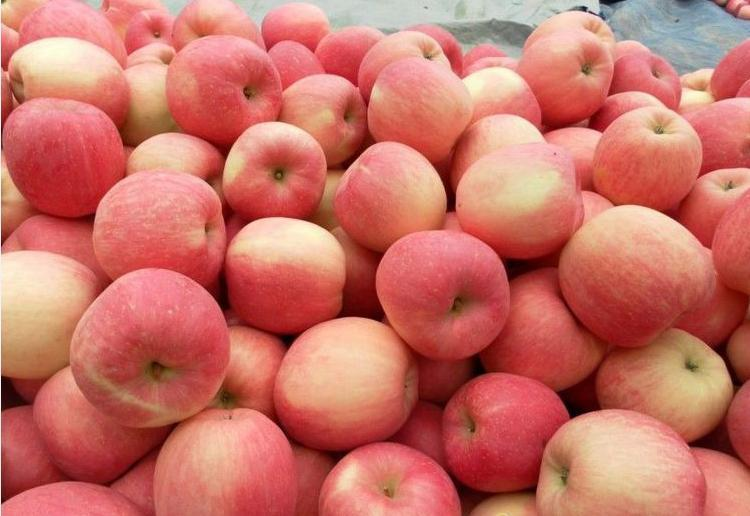apple: (67, 267, 230, 429), (551, 203, 714, 345), (272, 316, 418, 445), (375, 231, 511, 365), (536, 408, 704, 514), (592, 326, 732, 443), (440, 372, 568, 496), (454, 141, 584, 259), (92, 169, 224, 285), (154, 406, 294, 513), (223, 216, 345, 335), (1, 100, 124, 217), (1, 250, 102, 376), (335, 138, 447, 251), (166, 34, 281, 144), (594, 104, 704, 206), (11, 34, 126, 127), (222, 120, 327, 219), (316, 441, 458, 514), (369, 56, 472, 156), (516, 25, 613, 121), (278, 72, 369, 167), (462, 64, 542, 128)
